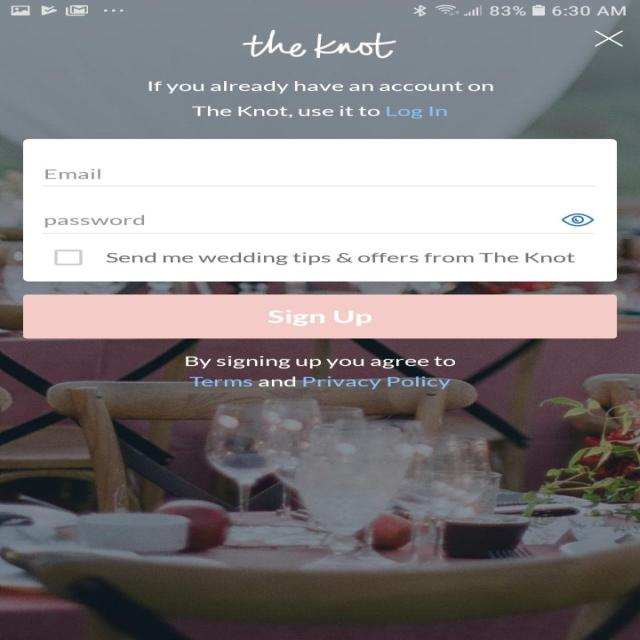BackgroundImage: (0, 18, 639, 640)
EditText: (42, 213, 596, 234), (42, 168, 596, 187)
Icon: (593, 30, 623, 47), (560, 213, 594, 227)
Image: (241, 30, 396, 59)
Text: (107, 251, 576, 265), (147, 81, 493, 94), (188, 375, 450, 389), (191, 105, 447, 119), (185, 355, 455, 368), (44, 215, 144, 228), (44, 169, 100, 179)
TextButton: (22, 294, 616, 339)
